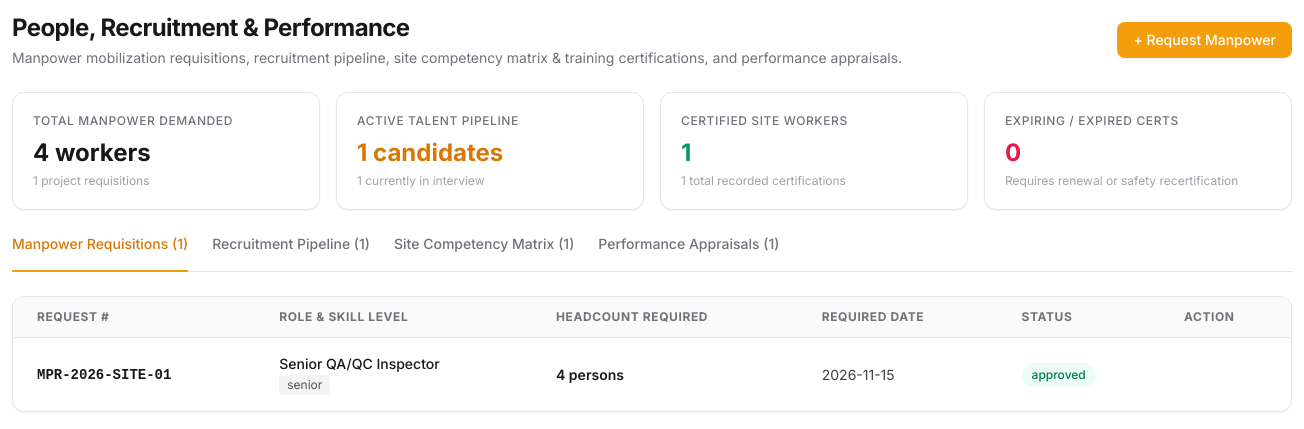
Test case: M24: People, Recruitment & Performance Page › switches to Appraisals tab and displays performance review records
The width and height of the screenshot is (1304, 429).
Step 1. Click the button "Performance Appraisals (1)" → x=689, y=253, box top-left (598, 234), bottom-right (779, 272)
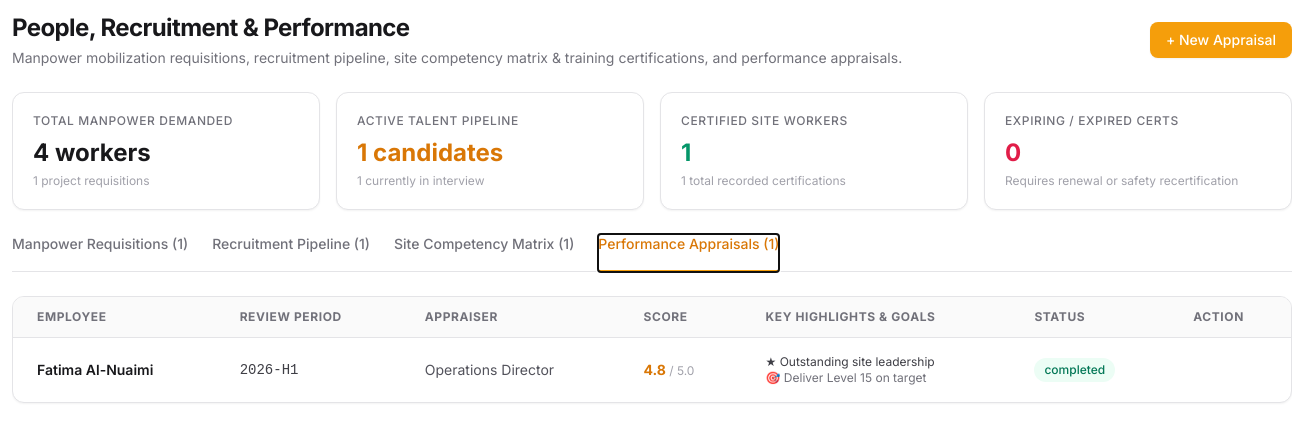
Expected: the text "Fatima Al-Nuaimi" is shown, top-left (13, 338), bottom-right (216, 402)
Expected: the text "2026-H1" is shown, top-left (216, 338), bottom-right (401, 402)
Expected: the text "4.8" is shown, top-left (644, 361), bottom-right (666, 378)
